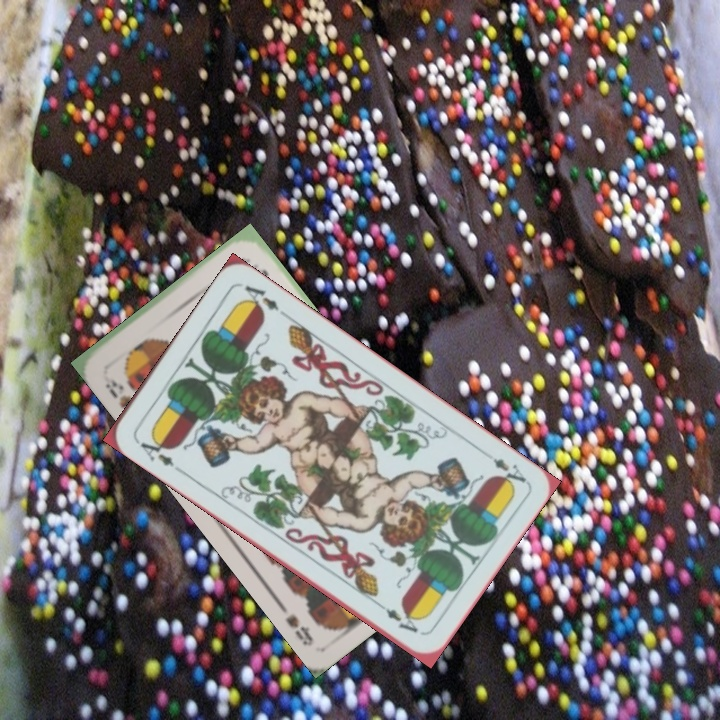EA: (478, 446, 529, 489), (132, 431, 177, 469)
S8: (100, 370, 136, 412)
